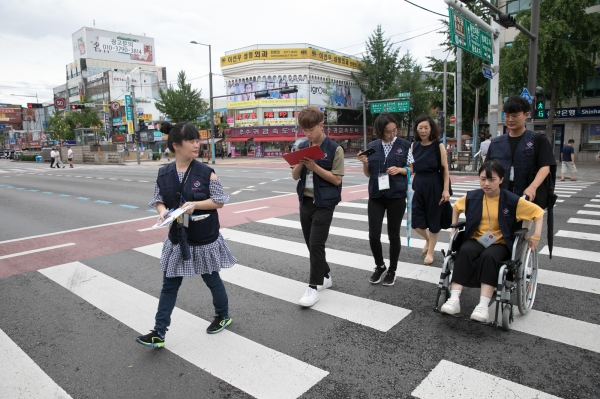wheelchair: (437, 160, 543, 331)
